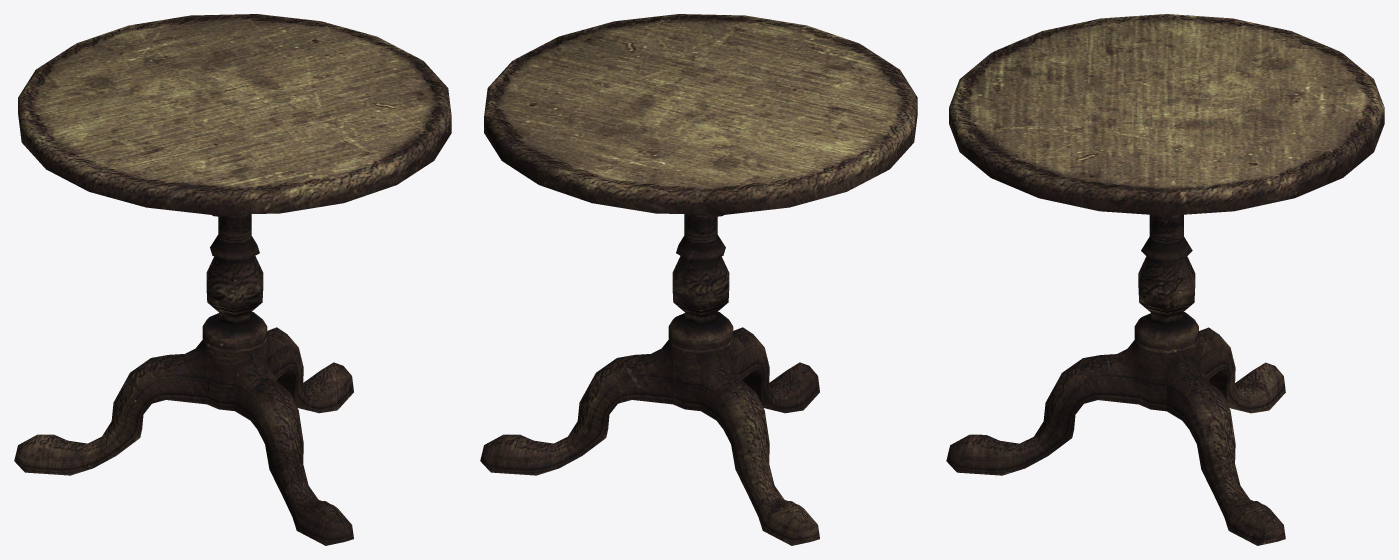
File: table_worn_round.dae
The picture shows the model from 3 angles, left to right: view 1: azimuth 30°, elevation 25°; view 2: azimuth 150°, elevation 25°; view 3: azimuth 270°, elevation 25°; orthographic projection.
Visible parts, largest first — view 1: table_nice_round_mesh; view 2: table_nice_round_mesh; view 3: table_nice_round_mesh.
Part boxes in pixels (x1,y1,x2,y2): table_nice_round_mesh: (14, 14, 451, 545); table_nice_round_mesh: (480, 14, 917, 545); table_nice_round_mesh: (946, 14, 1384, 545).
Bounding box in the file's own units: 1.2 × 1.1 × 1.21.
